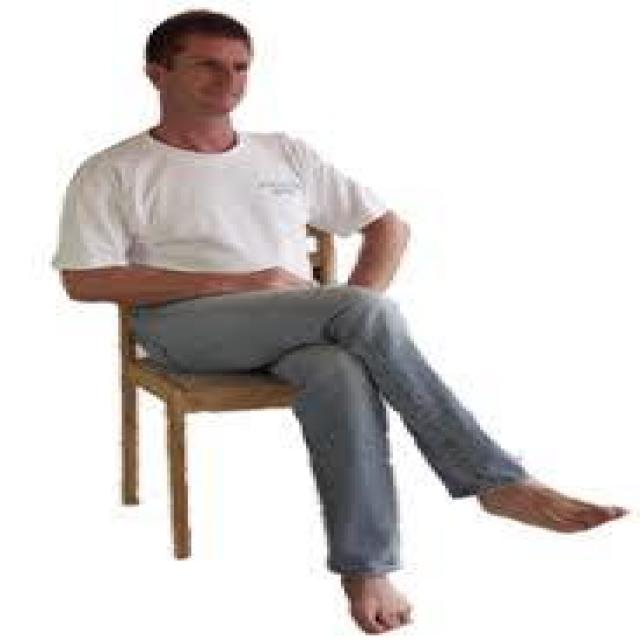nonfall: (68, 3, 628, 628)
